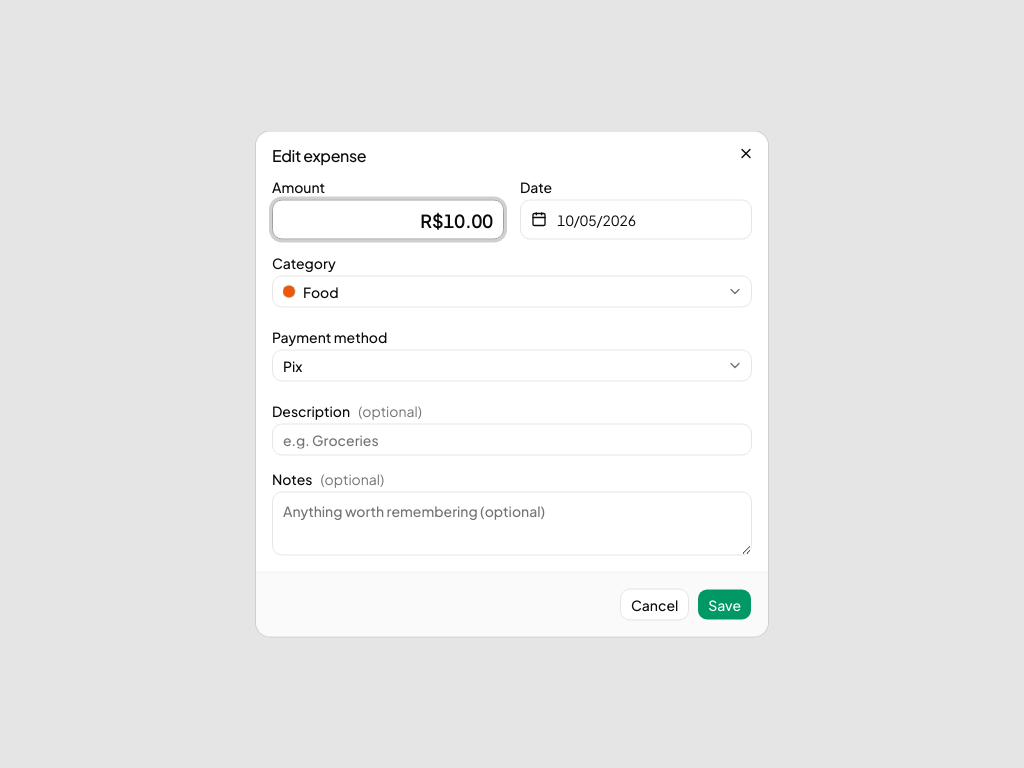
EntryFormDialog › shows translated field errors from the API
This screenshot has width=1024, height=768.
Click the button "Save" at (725, 604), box top-left (697, 588), bottom-right (752, 620)
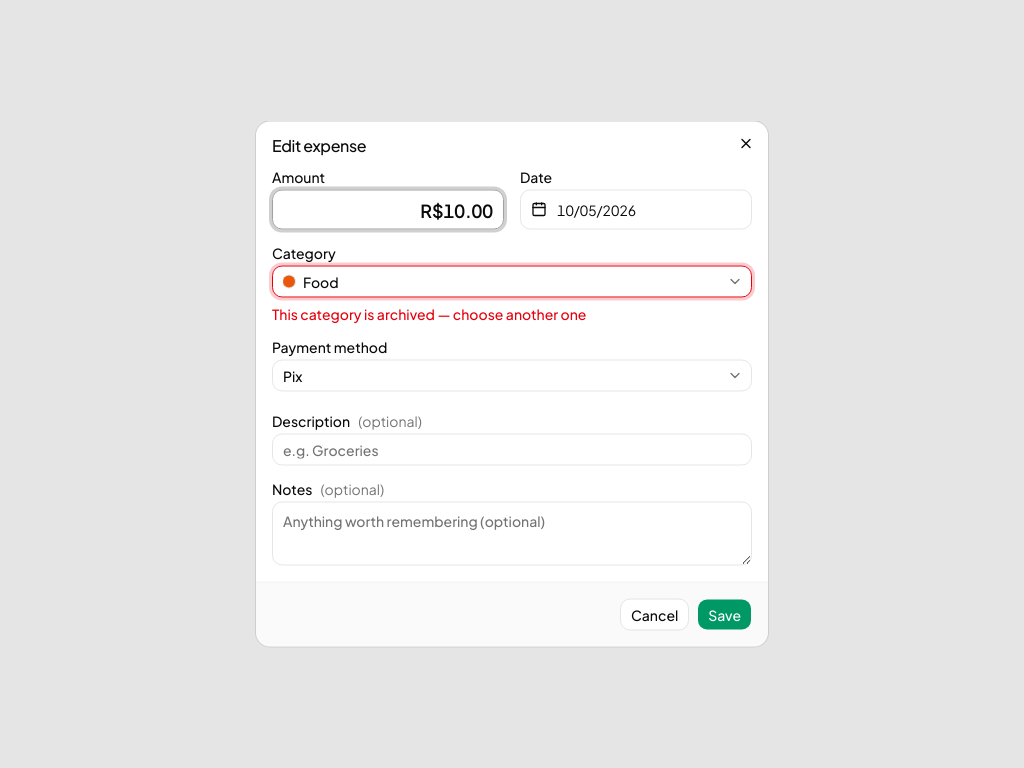
Result: the text "This category is archived — choose another one" is shown at top-left (272, 304), bottom-right (586, 322)
